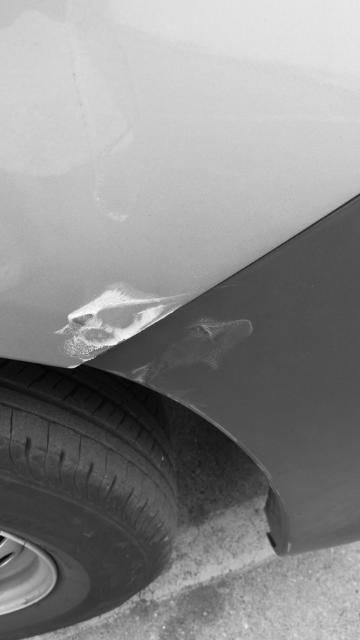Bumper: (26, 254, 239, 421)
